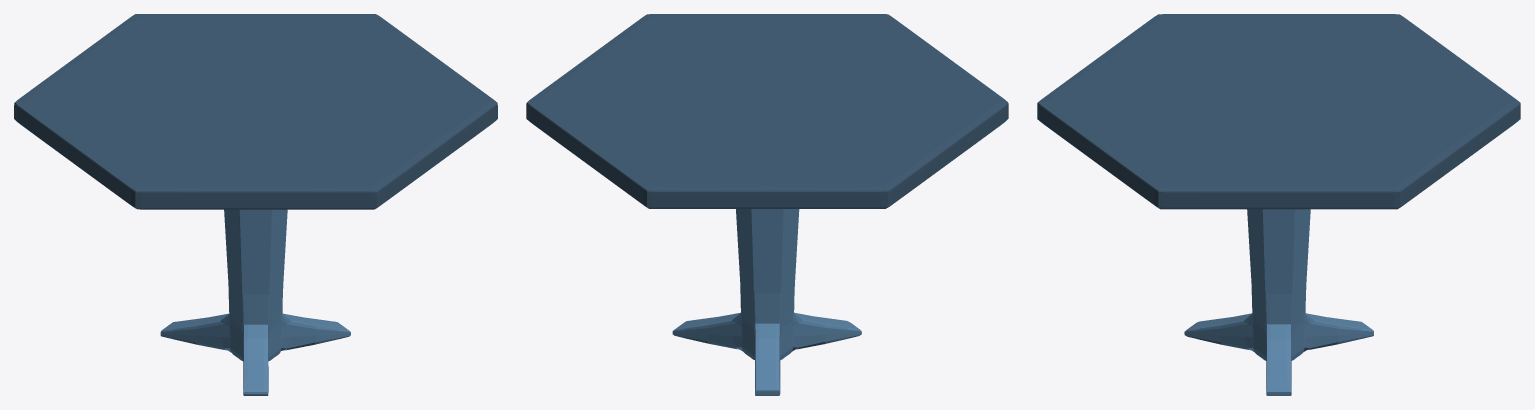
Rendered from Blovk4_hexagon_table.fbx.
3 views of the same model, side by side, from view 1: azimuth 30°, elevation 25°; view 2: azimuth 150°, elevation 25°; view 3: azimuth 270°, elevation 25° (orthographic).
Visible parts, largest first — view 1: Cylinder.001, Cylinder; view 2: Cylinder.001, Cylinder; view 3: Cylinder.001, Cylinder.
Part boxes in pixels (box(x1,y1,x2,y2)): Cylinder.001: box(14, 14, 497, 209); Cylinder: box(160, 209, 350, 395); Cylinder.001: box(526, 14, 1008, 208); Cylinder: box(672, 209, 861, 395); Cylinder.001: box(1037, 14, 1520, 209); Cylinder: box(1184, 209, 1373, 395).
Size of the model in its own units: 156 by 103 by 180.
